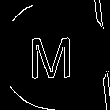M_N: (32, 29, 78, 81)
